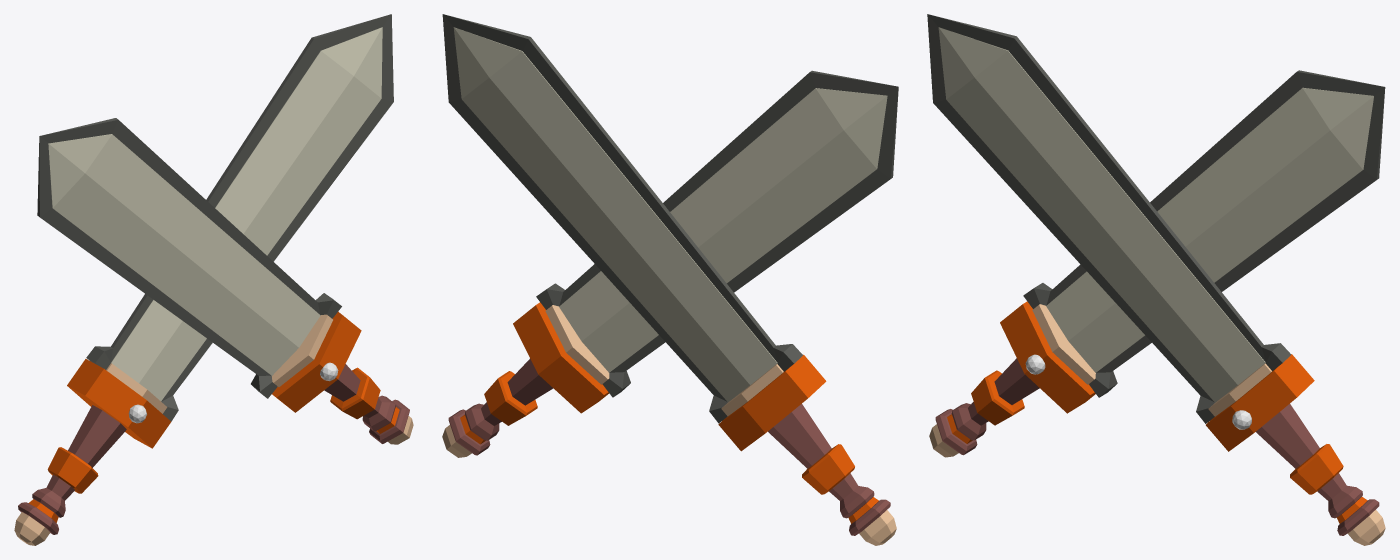
File: cross_sword.fbx
The picture shows the model from 3 angles, left to right: view 1: azimuth 30°, elevation 25°; view 2: azimuth 150°, elevation 25°; view 3: azimuth 330°, elevation 25°; orthographic projection. The views are drawn at different scales.
Parts seen in each view (by area): view 1: right sword, left sword; view 2: left sword, right sword; view 3: right sword, left sword.
Part boxes in pixels (left/top/right/bottom): right sword: left=37, top=118, right=413, bottom=444; left sword: left=14, top=14, right=393, bottom=545; left sword: left=442, top=14, right=896, bottom=545; right sword: left=442, top=70, right=898, bottom=457; right sword: left=927, top=14, right=1385, bottom=545; left sword: left=929, top=70, right=1385, bottom=457.
Bounding box in the file's own units: 1320 × 1299 × 234.
